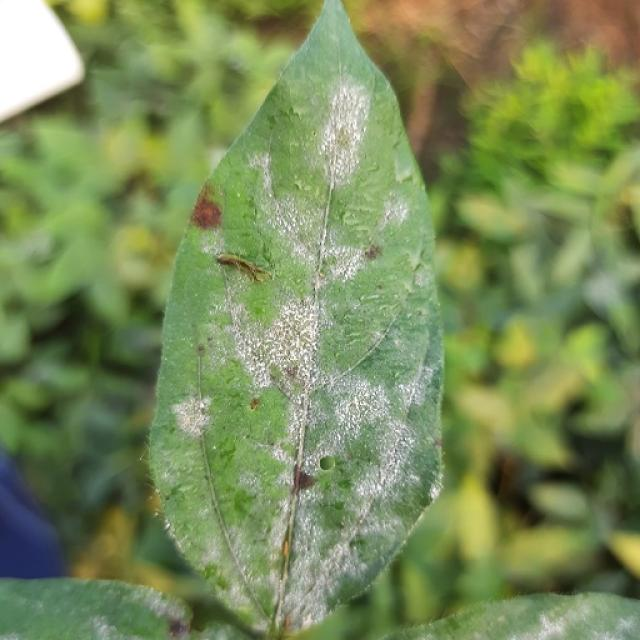Blackgram: (149, 0, 442, 628)
Powdery_Mildew: (202, 422, 291, 569), (342, 388, 430, 531), (302, 501, 386, 608), (317, 371, 403, 465), (317, 72, 372, 184), (261, 311, 333, 393), (314, 229, 376, 289), (266, 181, 318, 248), (123, 590, 188, 639), (520, 602, 603, 639), (172, 395, 214, 438), (381, 191, 412, 234), (252, 150, 277, 192), (88, 617, 131, 640), (200, 322, 225, 350), (269, 443, 295, 467), (200, 232, 223, 258), (199, 398, 207, 409)
